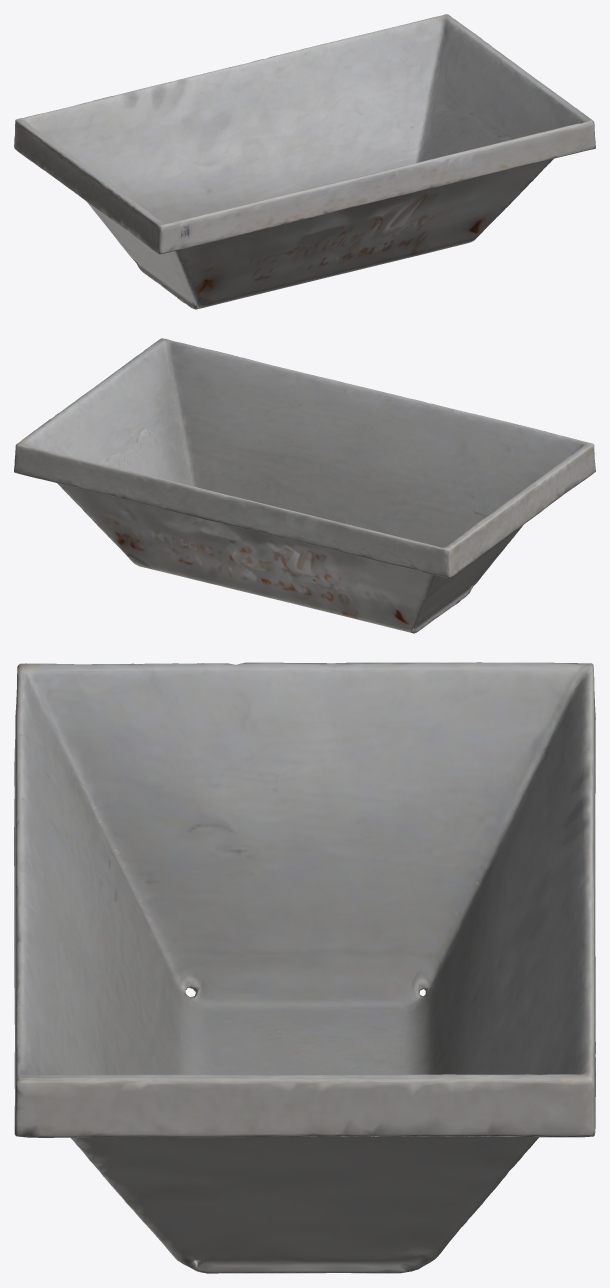
The model's file is skip-2m3.glb.
The picture shows the model from 3 angles, top to bottom: view 1: azimuth 30°, elevation 25°; view 2: azimuth 150°, elevation 25°; view 3: azimuth 270°, elevation 25°; orthographic projection. The views are drawn at different scales.
Size of the model in its own units: 2.01 by 0.6062 by 1.17.
Materials: 1 (1 with a texture image).
